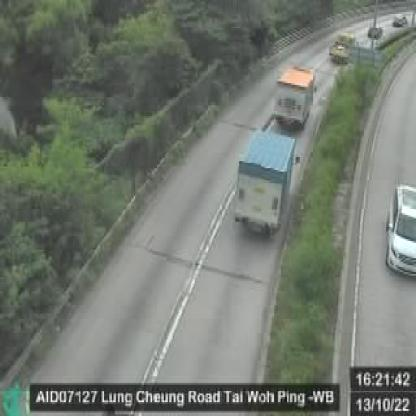Car: (386, 181, 416, 285)
Truck: (231, 128, 299, 240), (272, 63, 316, 130), (328, 31, 358, 64)
